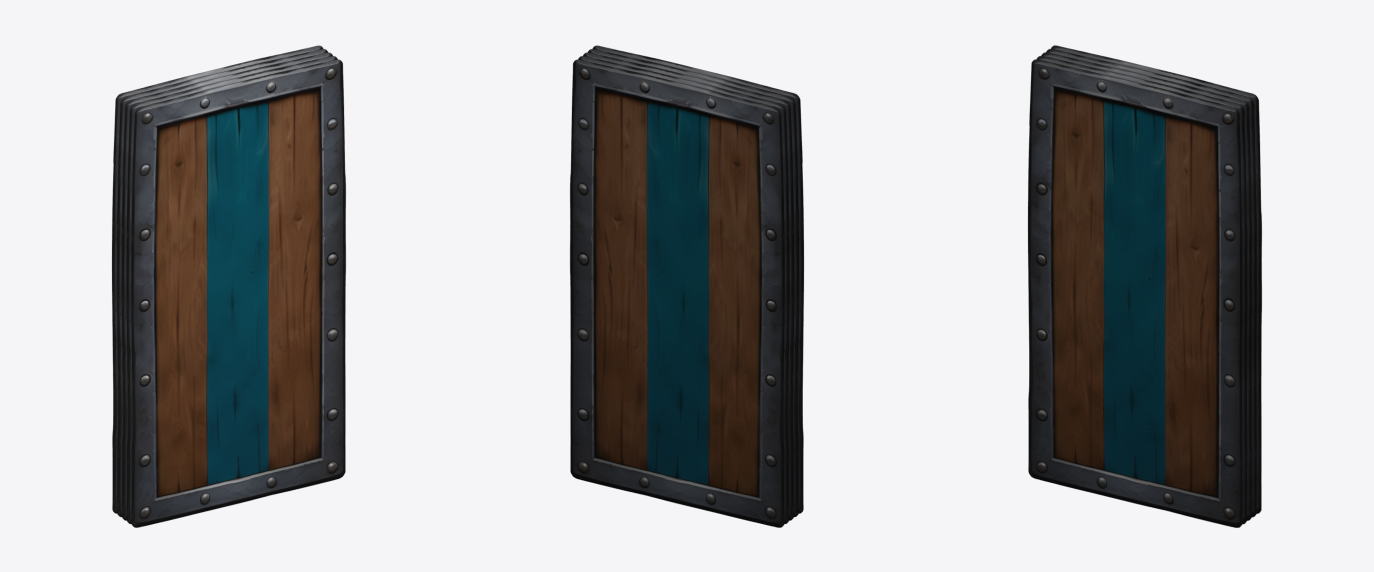
Rendered from shield_rect.glb.
The picture shows the model from 3 angles, left to right: view 1: azimuth 30°, elevation 25°; view 2: azimuth 150°, elevation 25°; view 3: azimuth 330°, elevation 25°; orthographic projection.
Visible parts, largest first — view 1: shield_rect; view 2: shield_rect; view 3: shield_rect.
Part boxes in pixels (box(x1,y1,x2,y2)): shield_rect: box(112, 45, 345, 527); shield_rect: box(570, 45, 803, 527); shield_rect: box(1028, 45, 1261, 527).
Bounding box in the file's own units: 0.867 × 0.867 × 0.07.
1 material, 1 textured.
